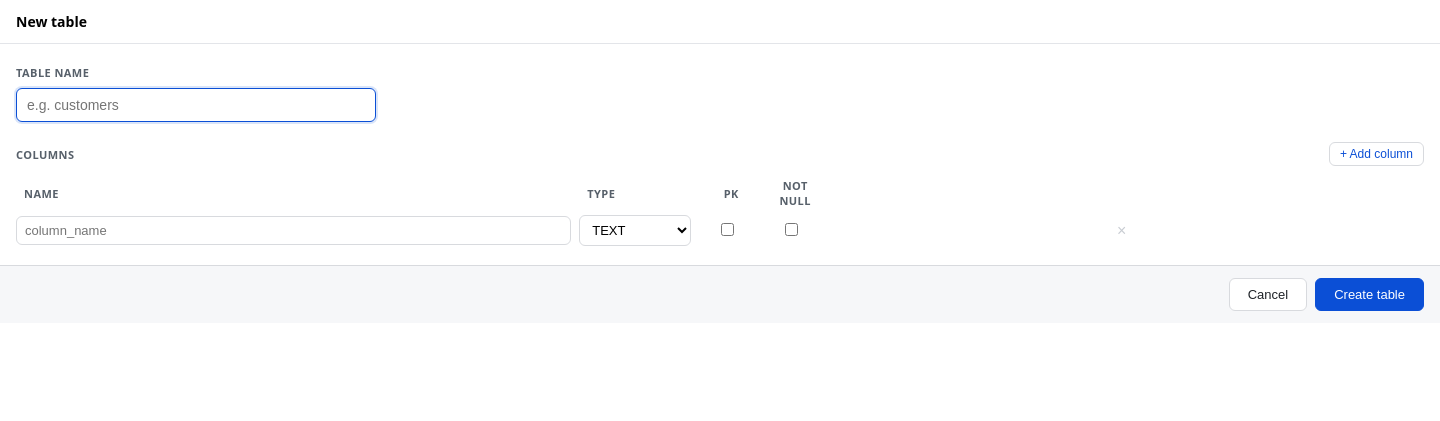
Test: TableForm (create mode) › rejects duplicate column names (case-insensitive)
Type "t" into the field labelled "Table name" at (196,105), box [16, 88, 376, 122]
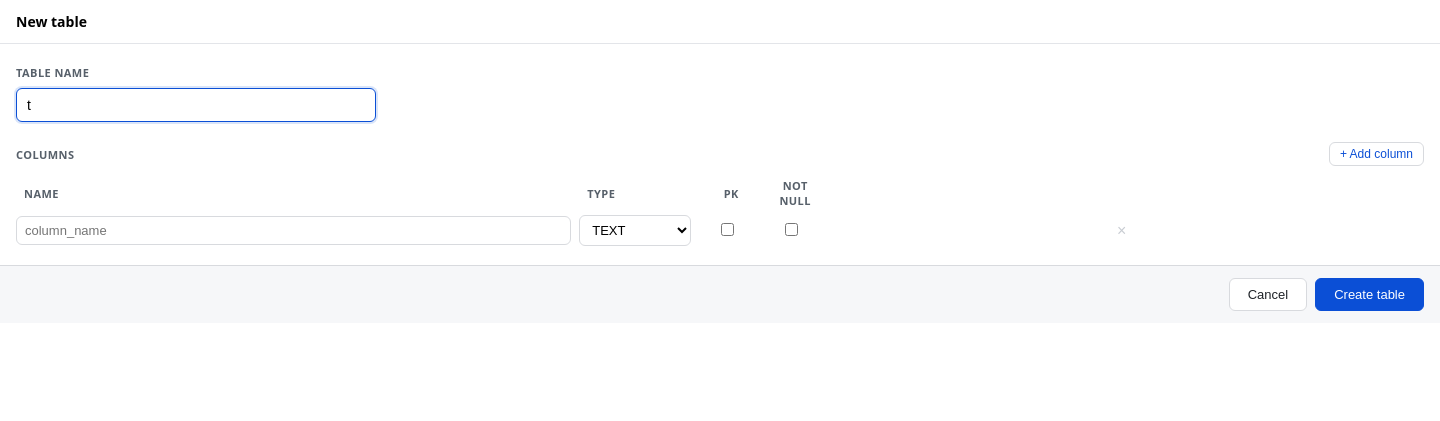
Click the button "+ Add column" at (1376,154), box [1329, 142, 1424, 166]
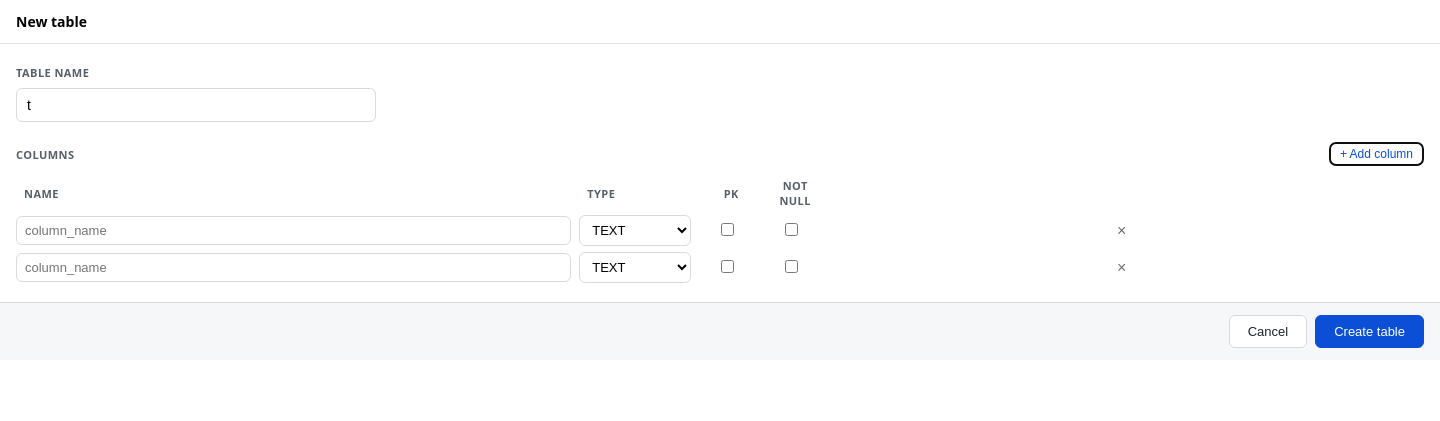
Type "Name" into the field named "Column name" at (294,230), box [16, 216, 571, 245]
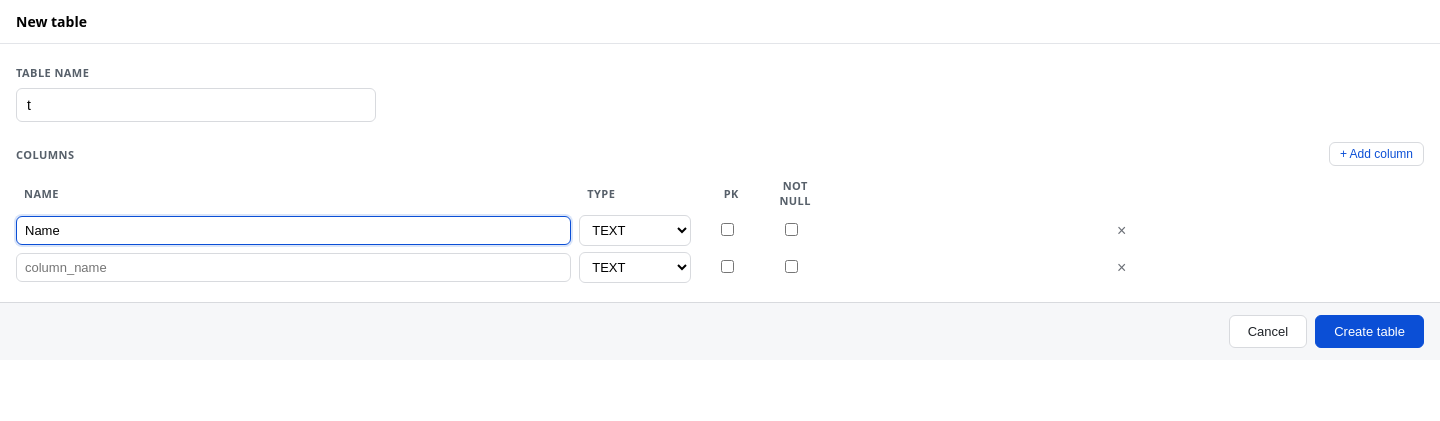
Type "name" into the field named "Column name" at (294,268), box [16, 253, 571, 282]
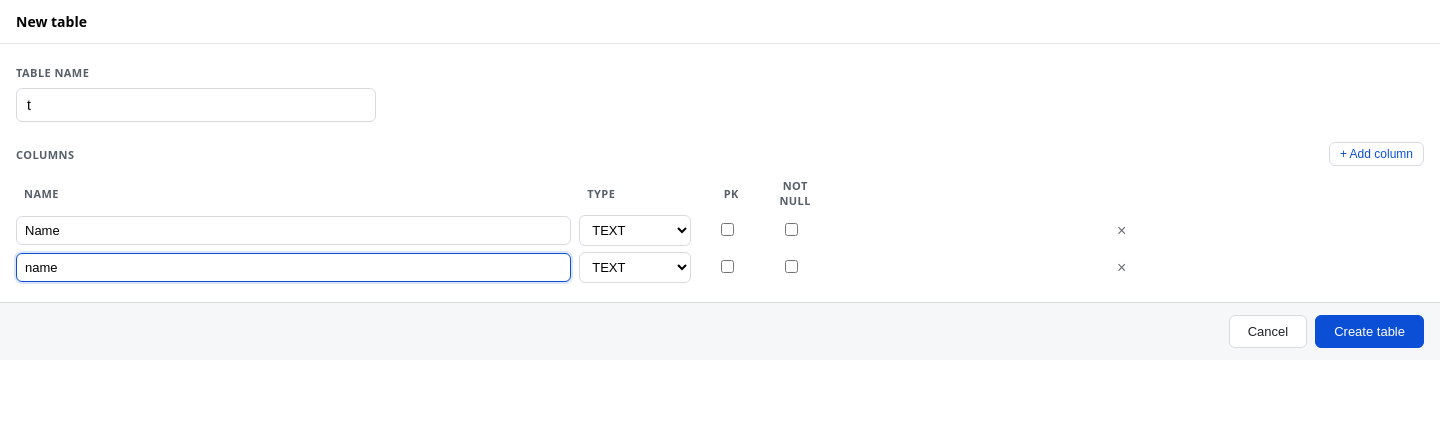
Click the button "Create table" at (1370,332), box [1315, 315, 1424, 348]
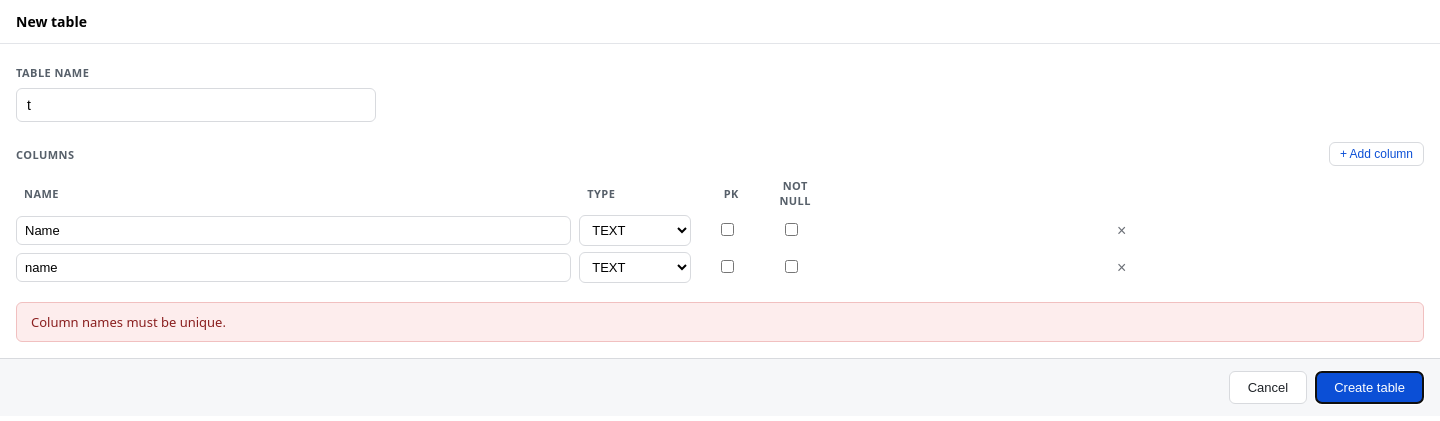
Now the text "Column names must be unique." is shown, box [16, 302, 1424, 342]
